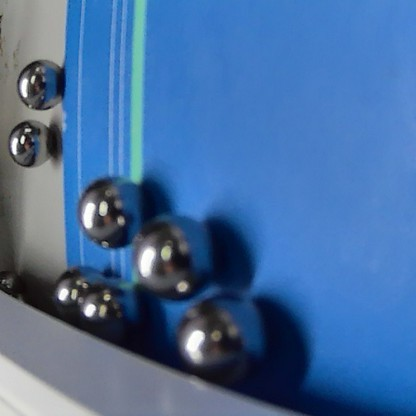ironball: (171, 287, 247, 369), (132, 211, 192, 298), (77, 168, 130, 254), (68, 269, 121, 342), (7, 50, 65, 112), (48, 259, 88, 326), (4, 118, 48, 169)
